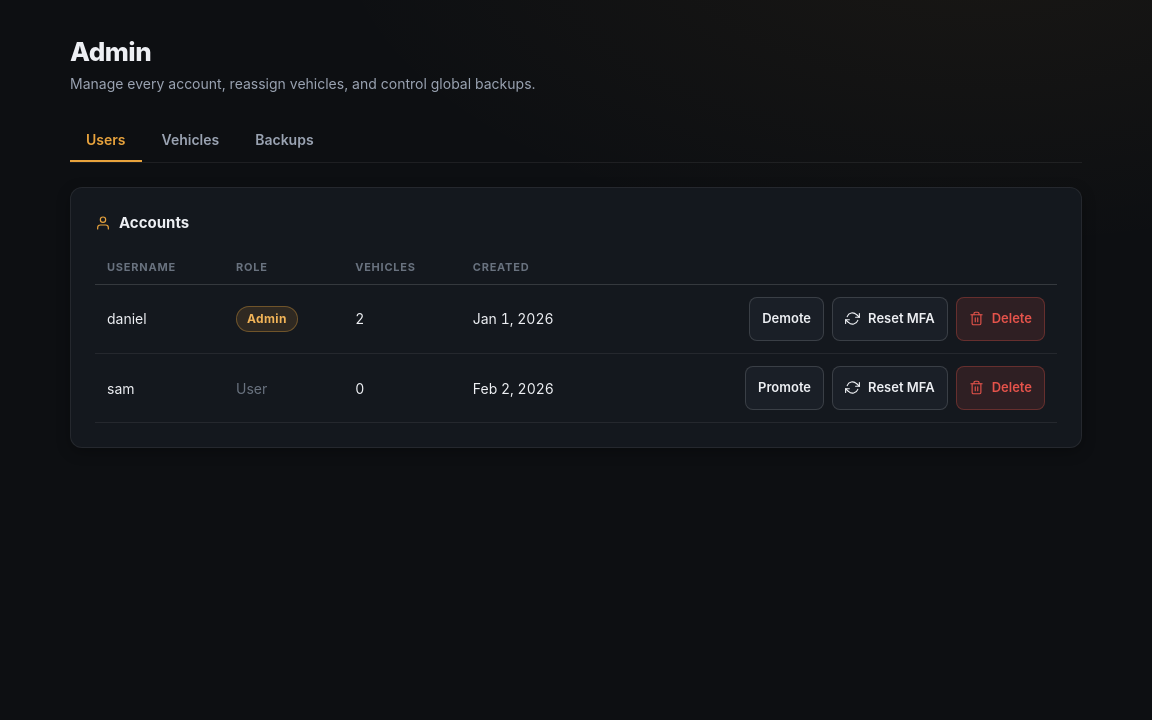
Test case: Admin — Users tab › shows a 409 error inline when deleting the last admin fails
The image size is (1152, 720).
Expected: the text "daniel" is shown, [95,284,224,353]
Click the button "Delete" in the row of "daniel".
click(1000, 318)  # box [956,296,1045,340]
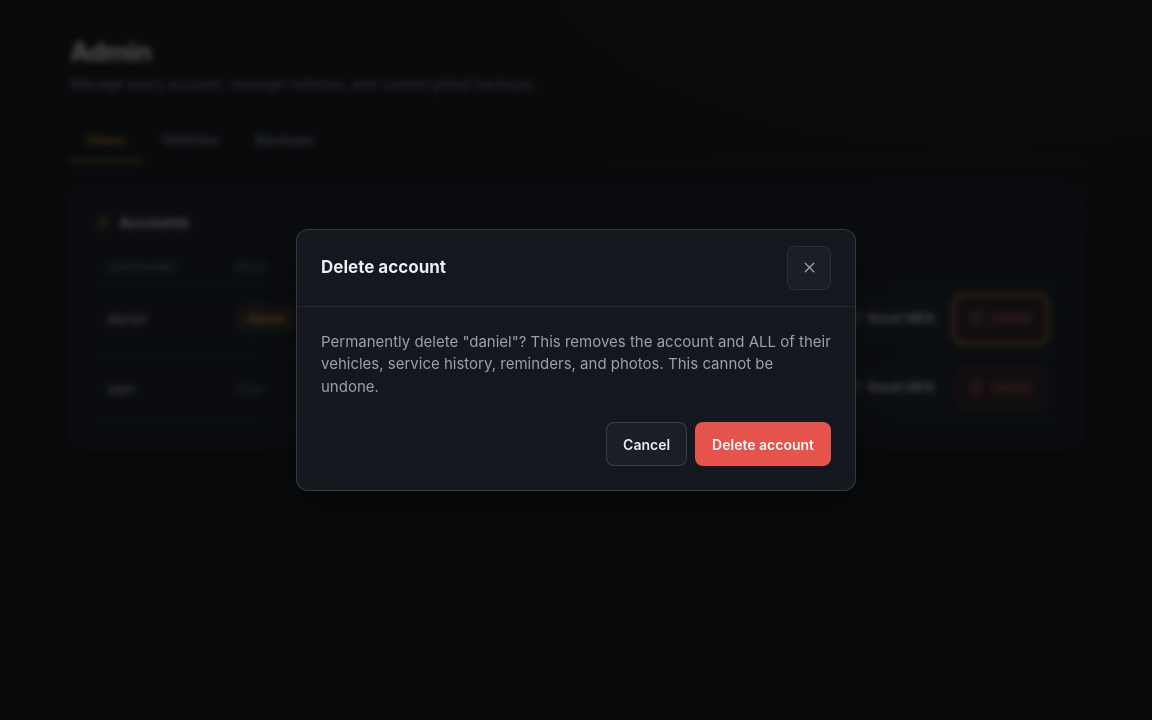
Click the button "Delete account".
click(763, 444)  # box [695,422,831,466]
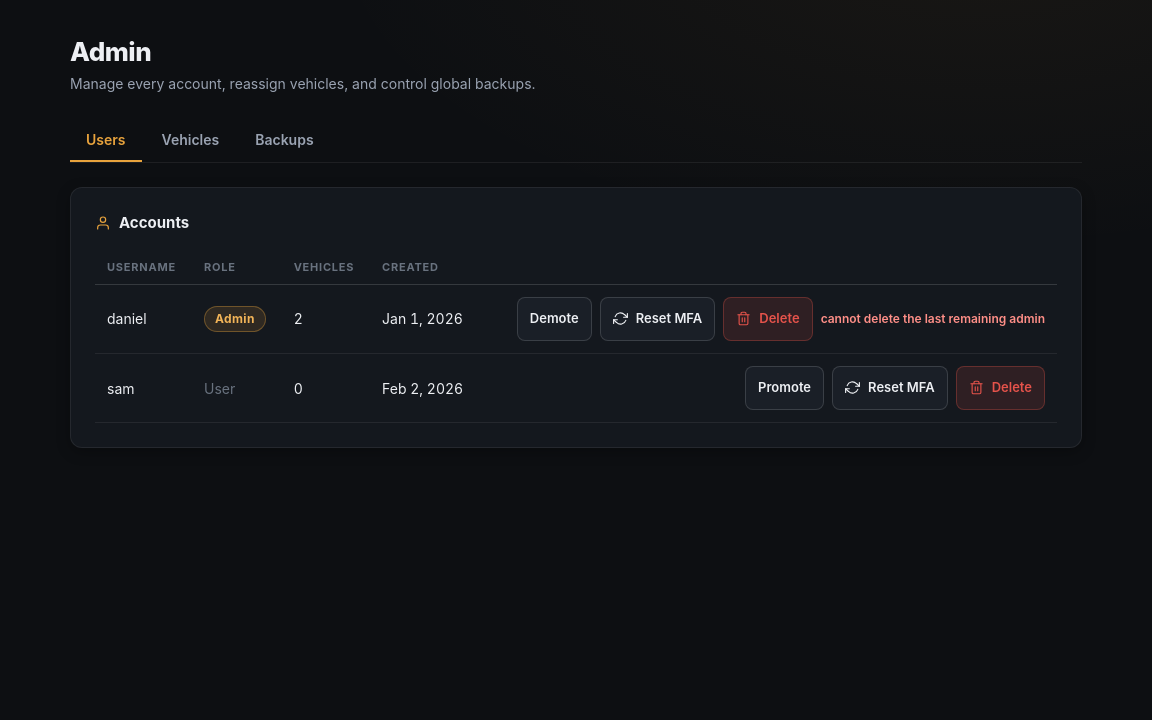
Now the text "cannot delete the last remaining admin" is shown, box [821,309,1045,327]
